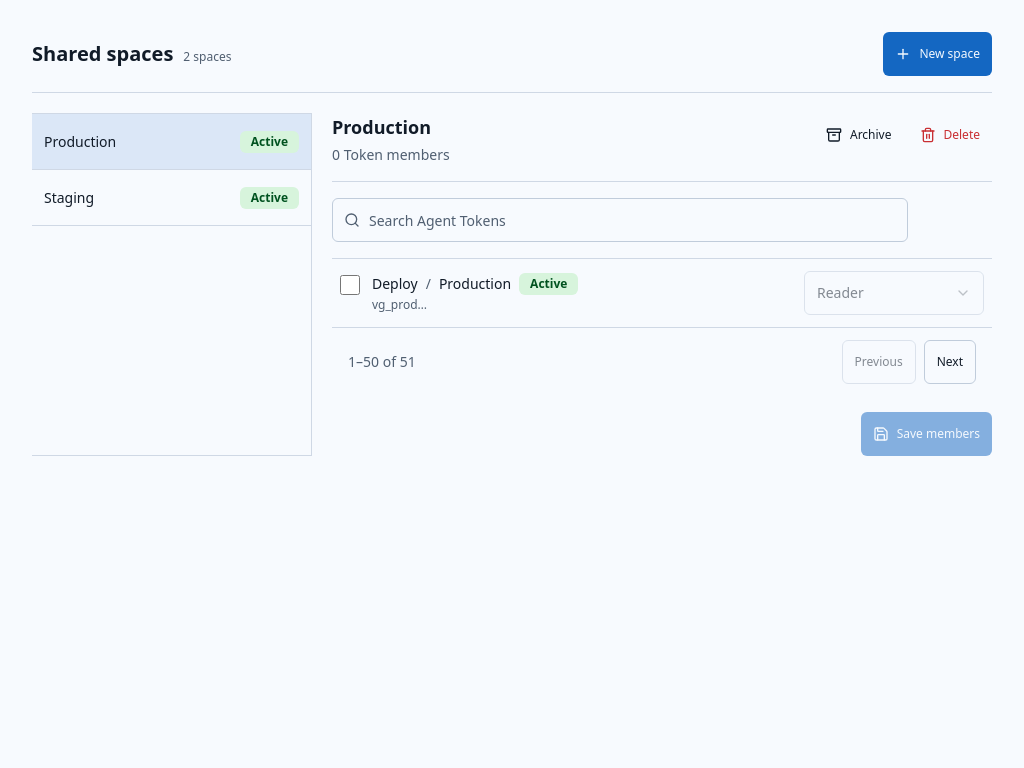
Test: SpacesPage › confirms before switching spaces with unsaved members
This screenshot has width=1024, height=768.
Click the checkbox labelled "Deploy / Production Active vg_prod…" at (350, 285), box [340,275,360,295]
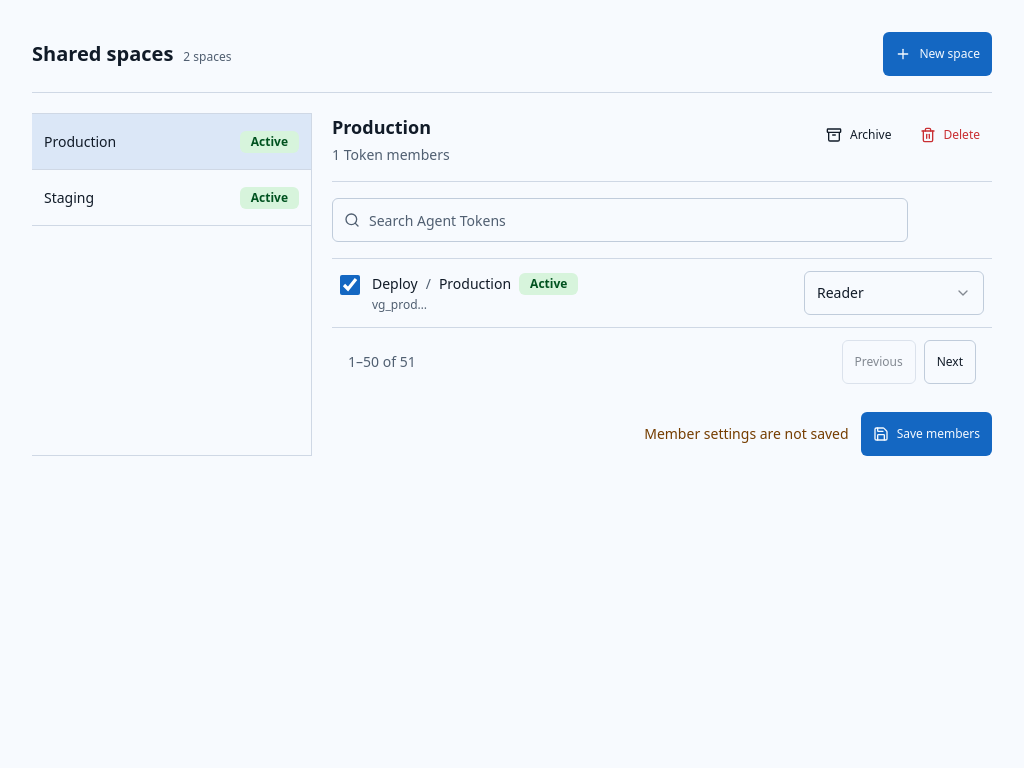
Click the button "Staging Active" at (69, 197), box [32,170,311,226]
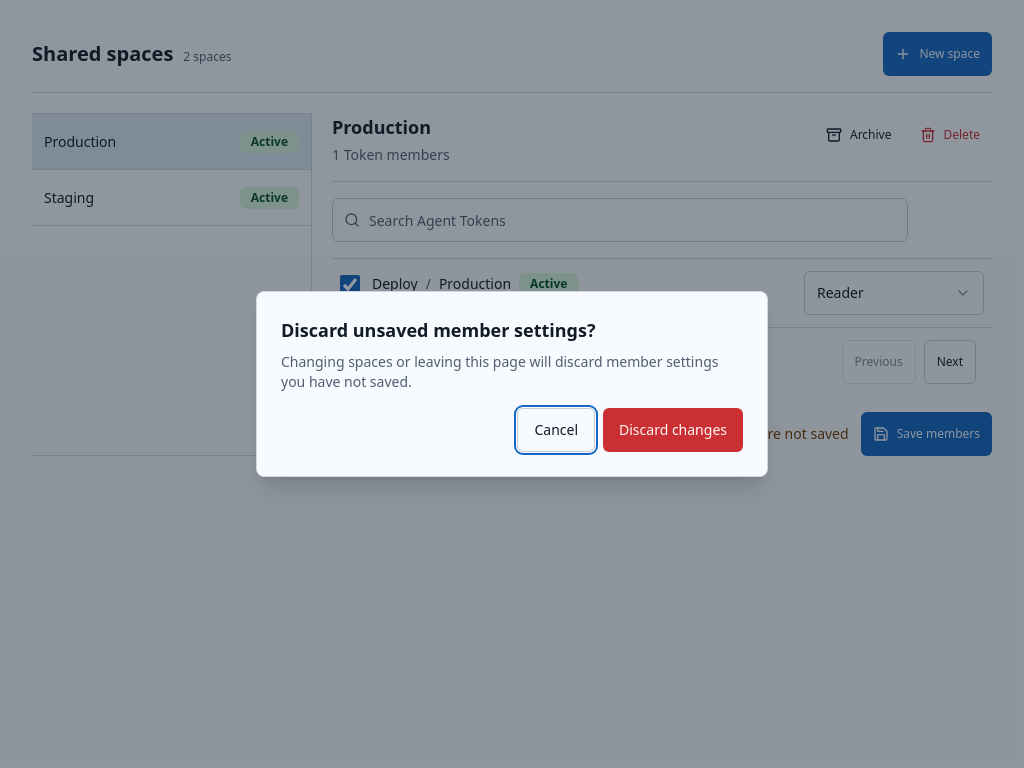
Result: the dialog shows "Discard unsaved member settings?" at [281,318,596,342]
